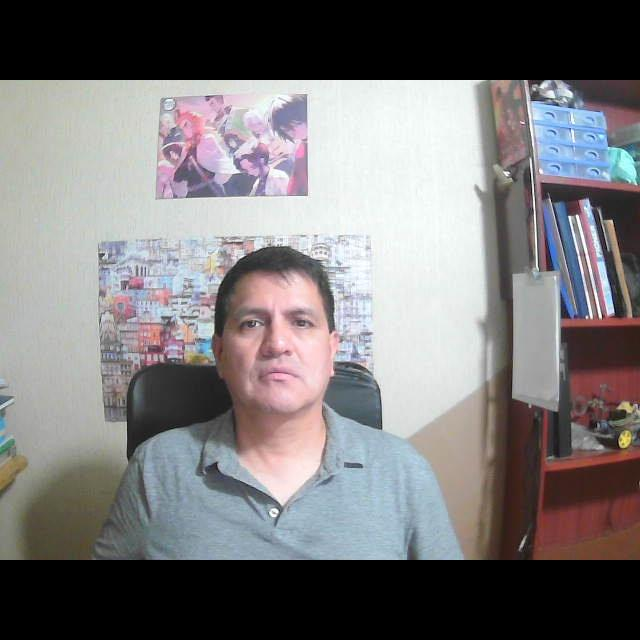cesar: (197, 238, 355, 450)
